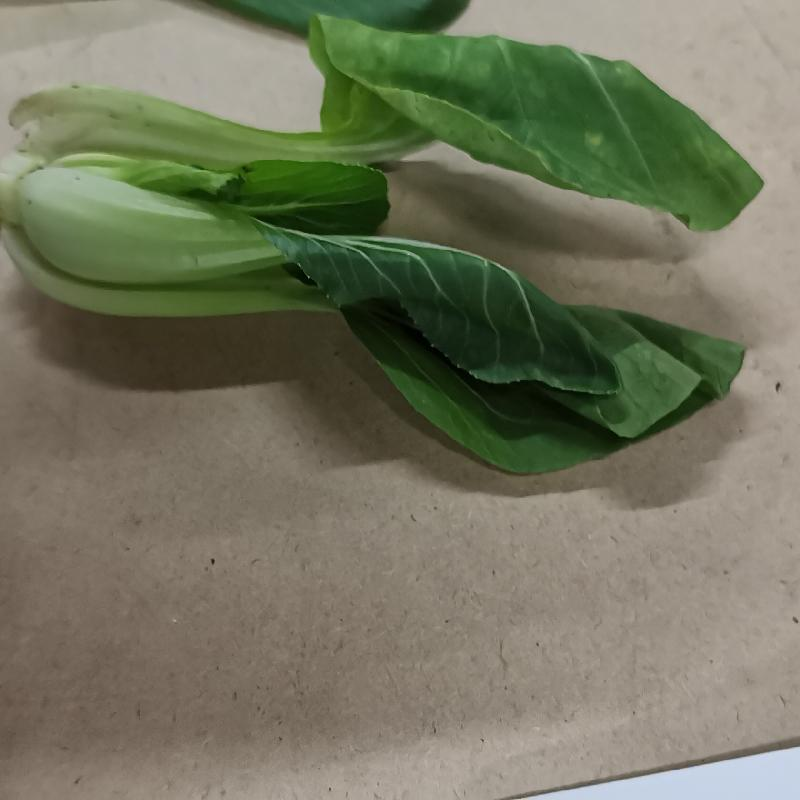green vegatable: (6, 16, 760, 475)
